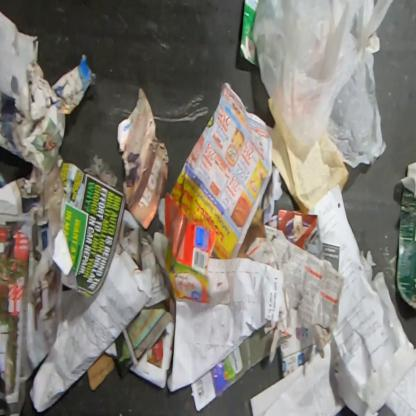cardboard: (395, 159, 415, 309), (86, 352, 116, 390)
soft_plastic: (252, 0, 395, 168)
